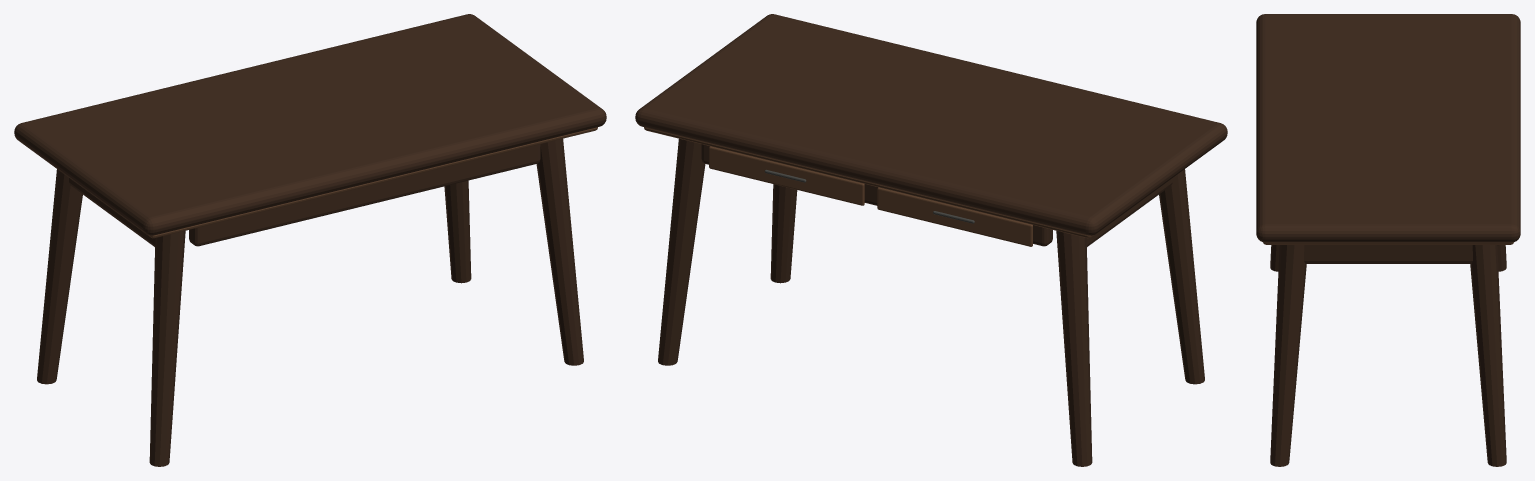
Rendered from desk_desktop.fbx.
3 views of the same model, side by side, from view 1: azimuth 30°, elevation 25°; view 2: azimuth 150°, elevation 25°; view 3: azimuth 270°, elevation 25° (orthographic). The views are drawn at different scales.
Visible parts, largest first — view 1: desk_desktop; view 2: desk_desktop; view 3: desk_desktop.
Boxes of the visible parts, x1=… form: desk_desktop: x1=14, y1=14, x2=606, y2=466; desk_desktop: x1=635, y1=14, x2=1227, y2=466; desk_desktop: x1=1256, y1=14, x2=1520, y2=466.
Size of the model in its own units: 1.4 by 0.738 by 0.72.
